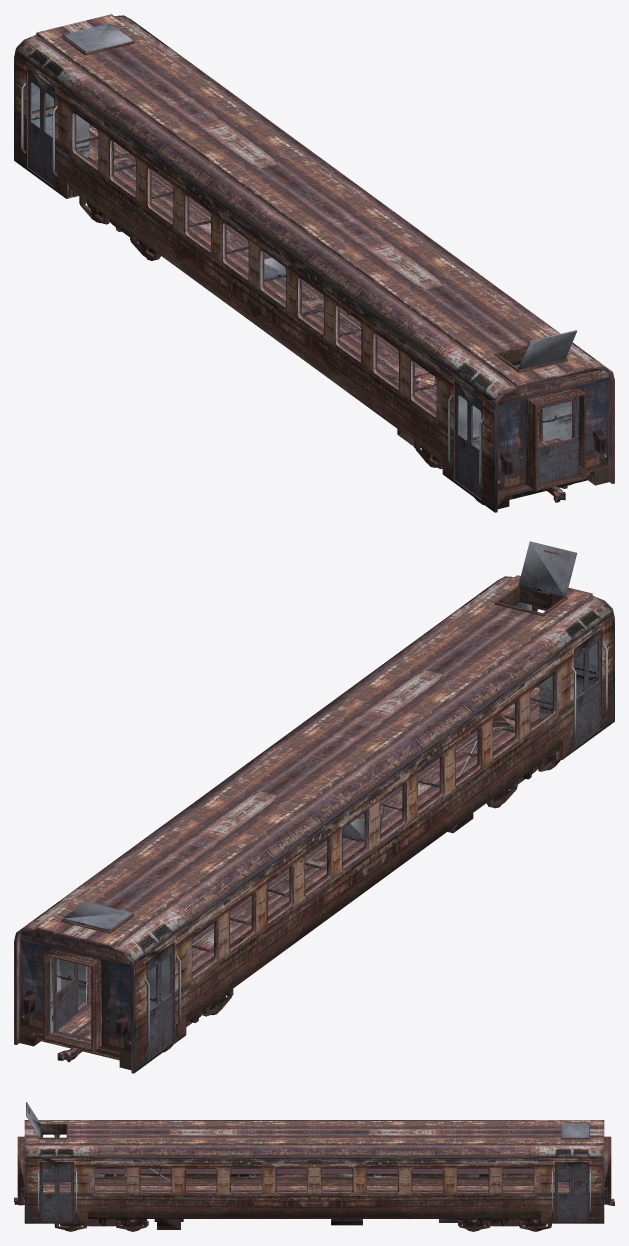
The model's file is train_vagon_suburban.fbx.
3 views of the same model, one above another, from view 1: azimuth 30°, elevation 25°; view 2: azimuth 150°, elevation 25°; view 3: azimuth 270°, elevation 25° (orthographic). The views are drawn at different scales.
Visible parts, largest first — view 1: train_vagon_suburban_02_1.001, train_vagon_suburban_02_2.001; view 2: train_vagon_suburban_02_1.001, train_vagon_suburban_02_2.001; view 3: train_vagon_suburban_02_1.001, train_vagon_suburban_02_2.001.
Part boxes in pixels (<box>): train_vagon_suburban_02_1.001: <box>14,14,614,512</box>; train_vagon_suburban_02_2.001: <box>30,82,574,449</box>; train_vagon_suburban_02_1.001: <box>14,541,614,1073</box>; train_vagon_suburban_02_2.001: <box>44,586,598,1049</box>; train_vagon_suburban_02_1.001: <box>14,1102,614,1231</box>; train_vagon_suburban_02_2.001: <box>40,1124,585,1193</box>.
Size of the model in its own units: 383 by 536 by 2590.
